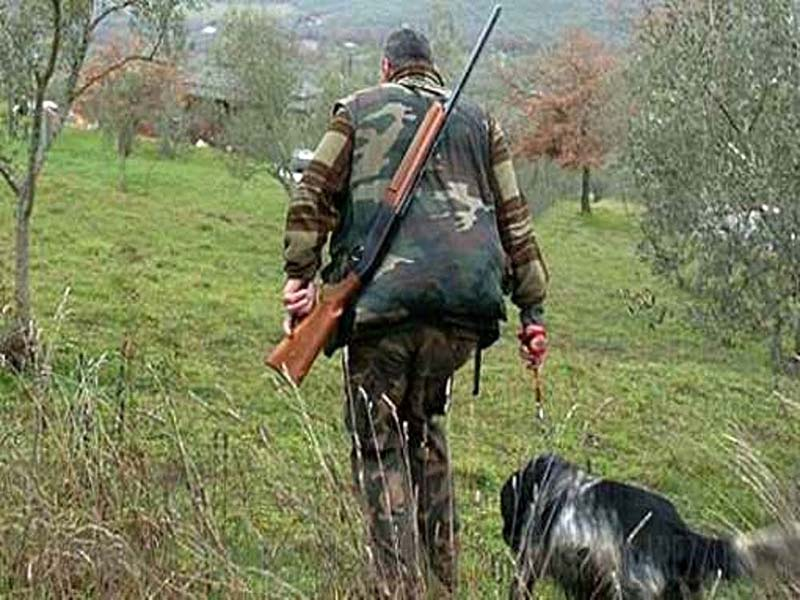cacciatore: (309, 29, 506, 595)
